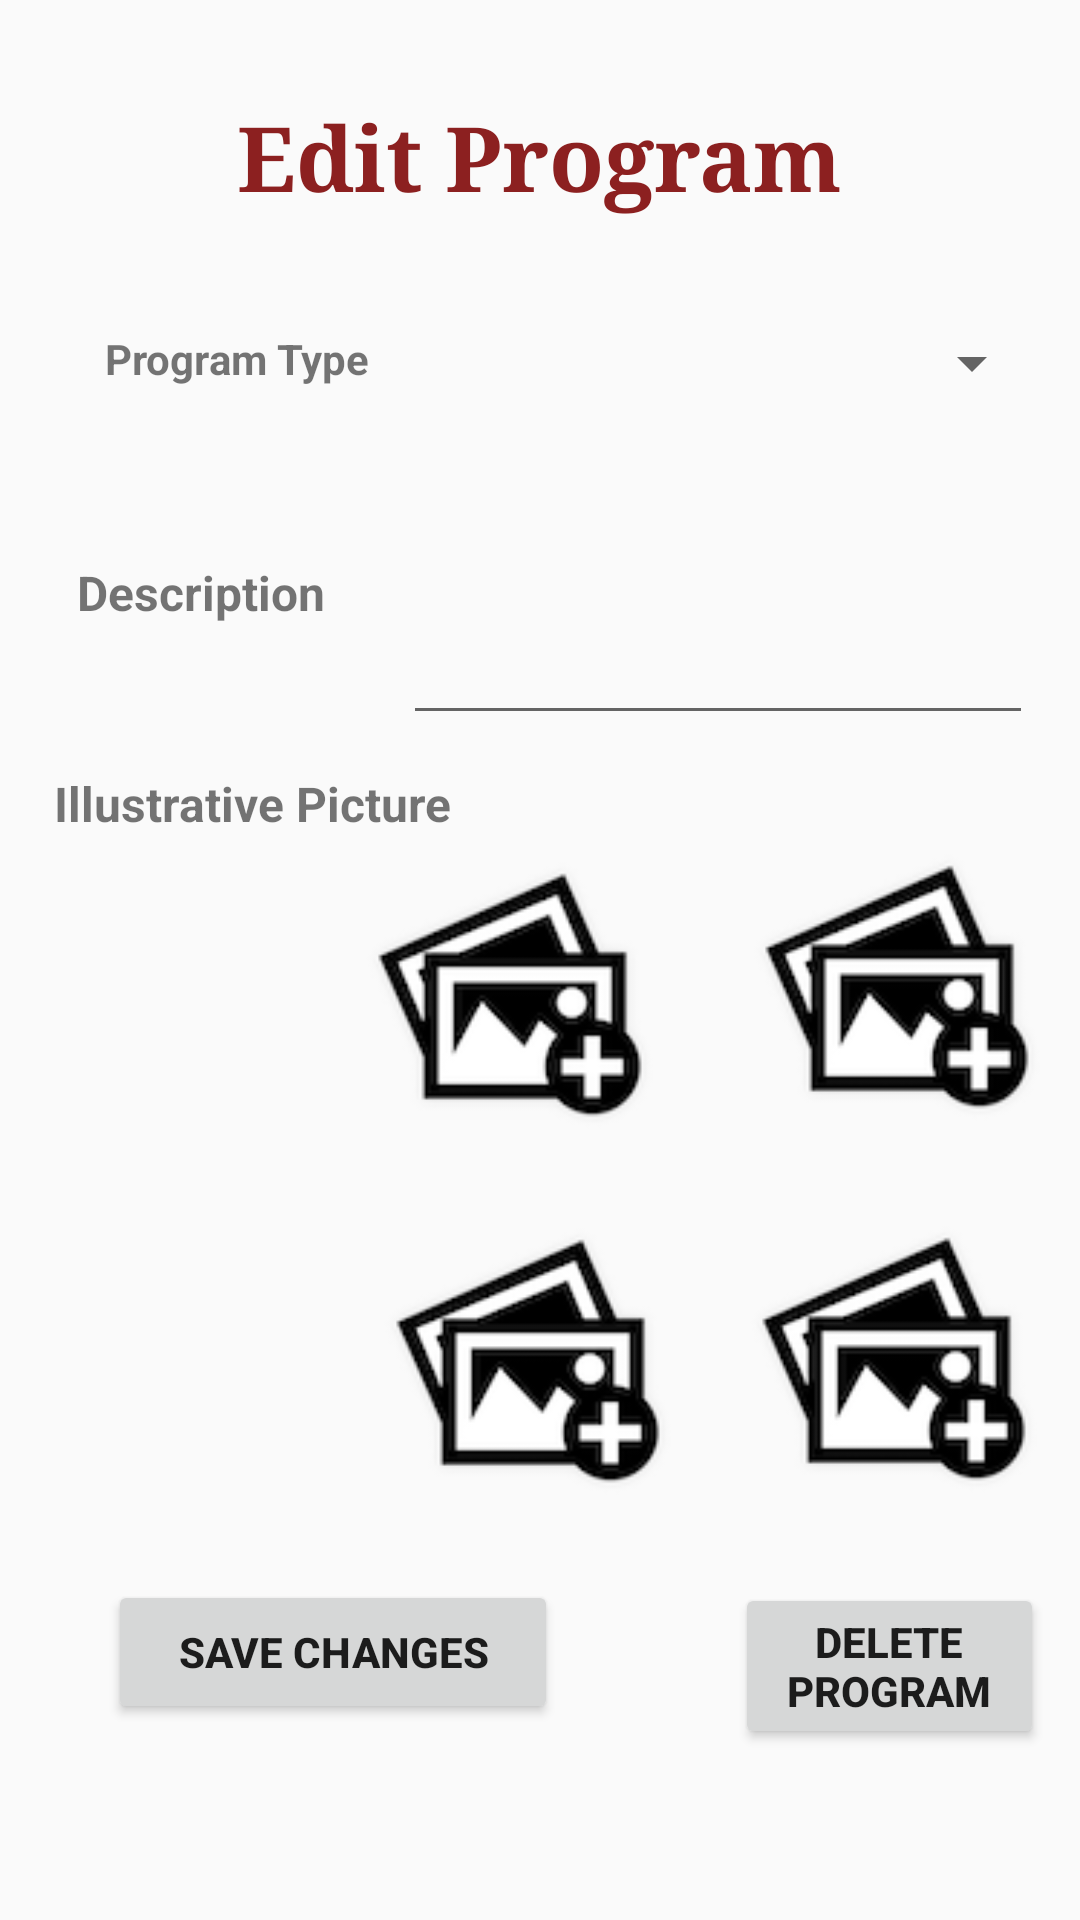

Locate icon controls on the screen. Image size 1080 x 1920, boxes as (x1, y1, x2, y2).
add: (765, 866, 1029, 1108), (378, 874, 642, 1116), (762, 1238, 1026, 1480), (396, 1240, 660, 1482)
